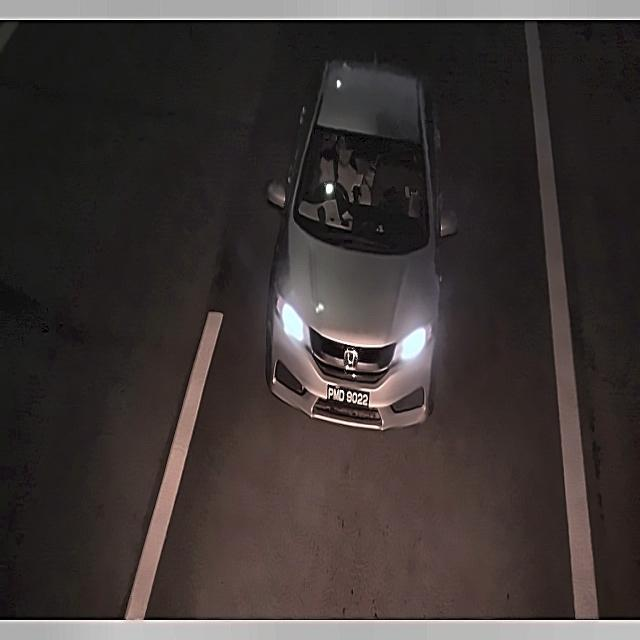car: (324, 373, 373, 414)
